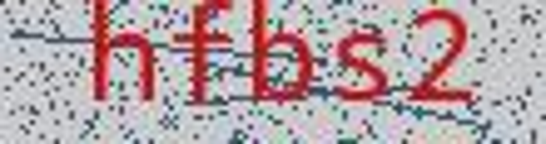2: (405, 4, 480, 116)
b: (243, 1, 316, 108)
f: (168, 1, 236, 110)
h: (77, 1, 158, 109)
s: (327, 24, 392, 112)
